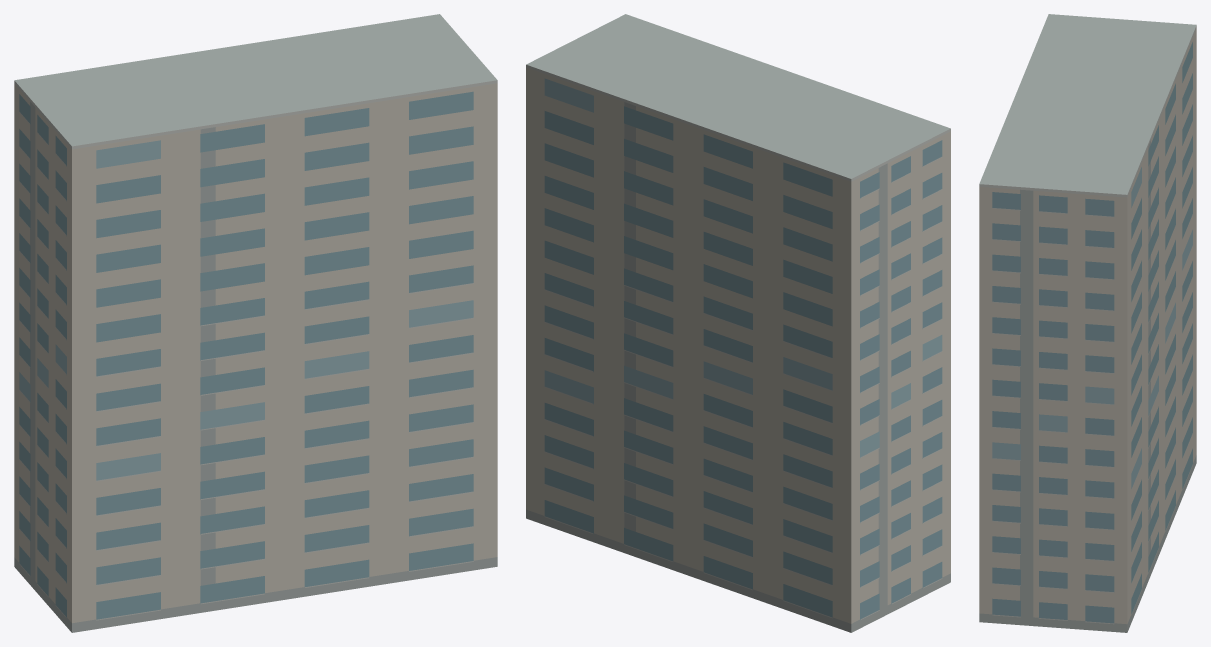
File: residential-fe955160-d47d-493b-a6ce-3d384fccb54c.glb
3 renders of one model, left to right at view 1: azimuth 30°, elevation 25°; view 2: azimuth 150°, elevation 25°; view 3: azimuth 270°, elevation 25°, orthographic. The views are drawn at different scales.
Parts seen in each view (by area): view 1: residential-fe955160-d47d-493b-a6ce-3d384fccb54c.tmp; view 2: residential-fe955160-d47d-493b-a6ce-3d384fccb54c.tmp; view 3: residential-fe955160-d47d-493b-a6ce-3d384fccb54c.tmp.
Boxes of the visible parts, bbox=[...] form: residential-fe955160-d47d-493b-a6ce-3d384fccb54c.tmp: bbox=[14, 14, 497, 632]; residential-fe955160-d47d-493b-a6ce-3d384fccb54c.tmp: bbox=[526, 14, 950, 632]; residential-fe955160-d47d-493b-a6ce-3d384fccb54c.tmp: bbox=[979, 14, 1196, 632].
Size of the model in its own units: 35.43 by 40 by 18.01.
